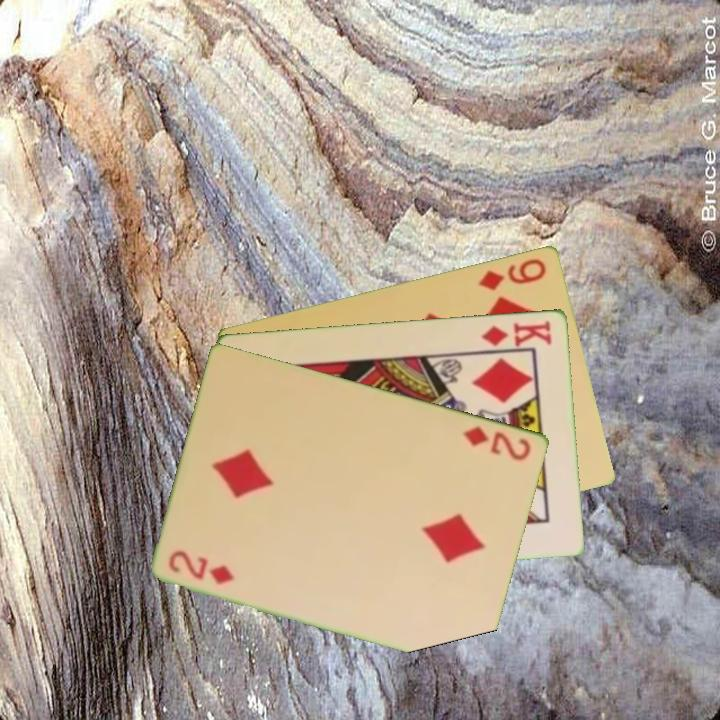2d: (459, 422, 535, 463), (165, 548, 238, 587)
9d: (474, 254, 550, 293)
Kd: (478, 316, 555, 349)
